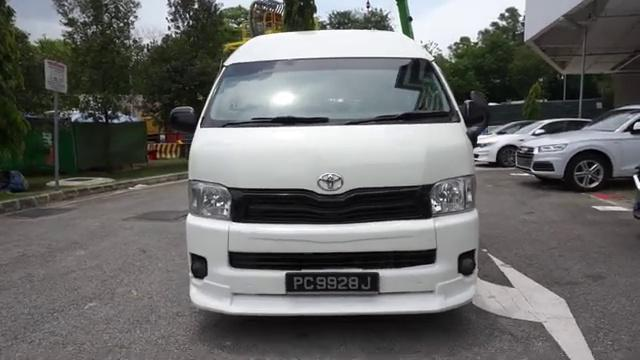van: (178, 33, 485, 318)
